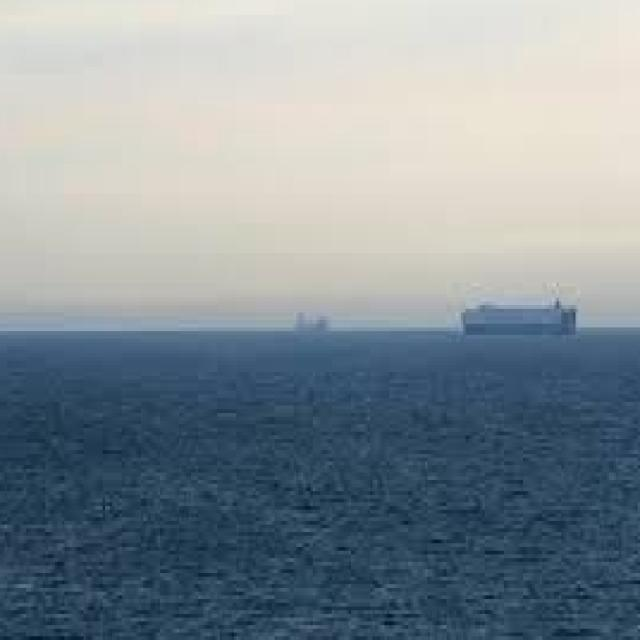cargoship: (440, 285, 587, 351)
